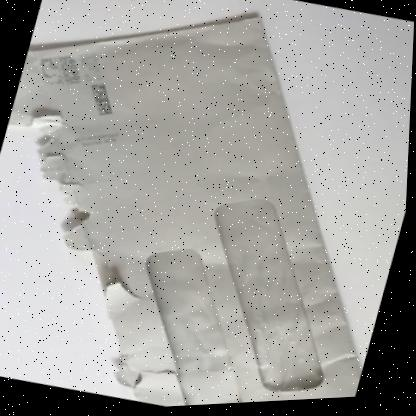Paper: (10, 15, 365, 408)
